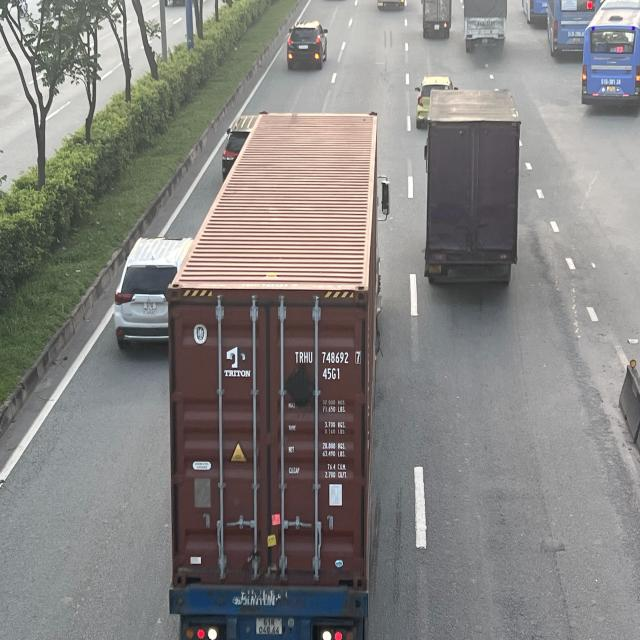car: (114, 237, 180, 351), (286, 19, 328, 68)
coach: (584, 2, 640, 112), (546, 0, 608, 56)
container: (170, 103, 394, 638)
truck: (420, 88, 522, 292), (464, 0, 510, 49), (423, 0, 453, 38)
